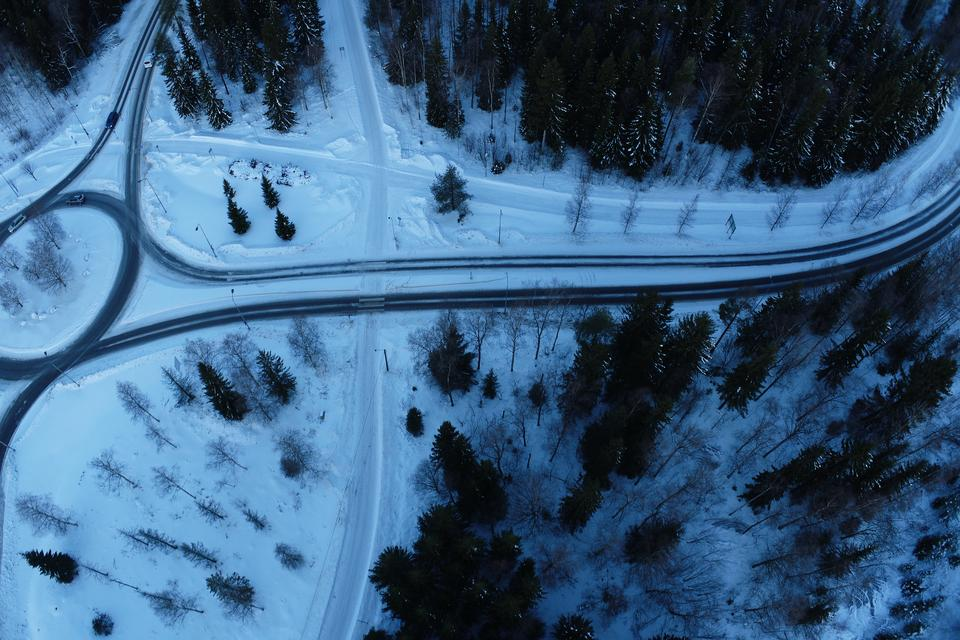intersection: (344, 245, 397, 328), (68, 119, 163, 161)
roundabout: (0, 165, 189, 401)
